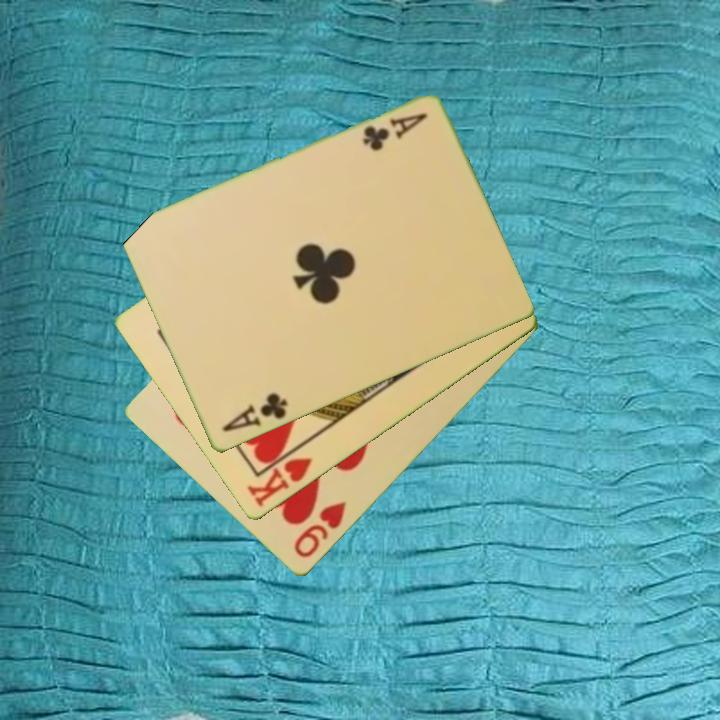9h: (290, 499, 349, 562)
Ac: (218, 390, 291, 436), (359, 110, 430, 155)
Kh: (243, 440, 316, 511)
